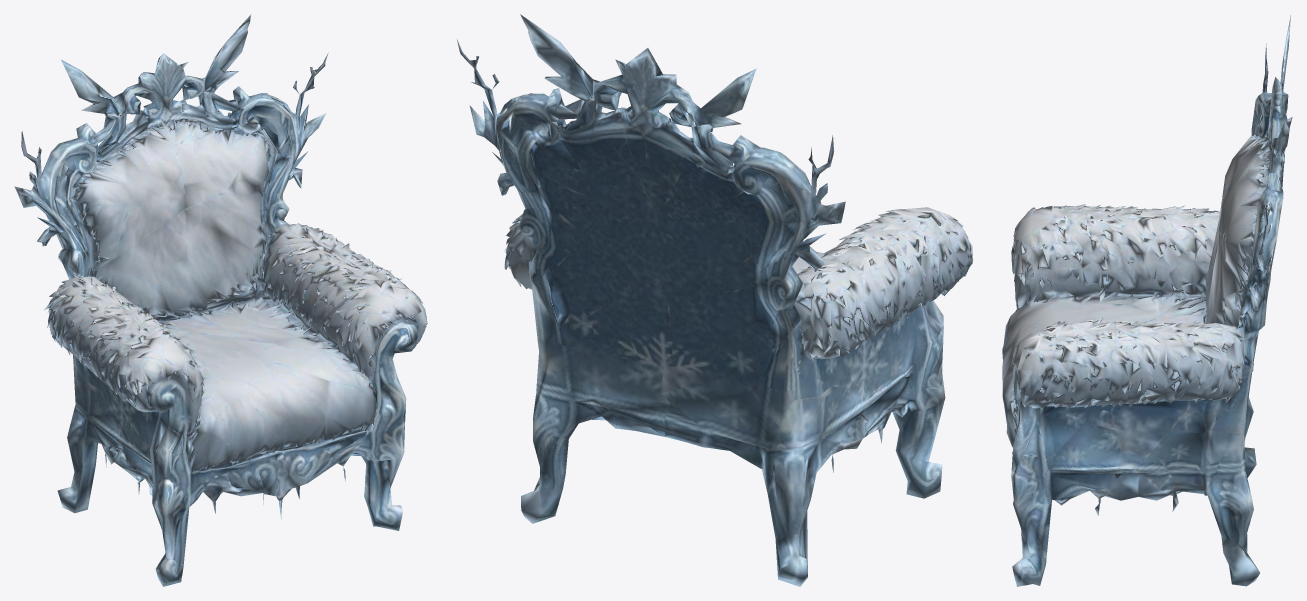
File: chair.glb
The picture shows the model from 3 angles, left to right: view 1: azimuth 30°, elevation 25°; view 2: azimuth 150°, elevation 25°; view 3: azimuth 270°, elevation 25°; orthographic projection. The views are drawn at different scales.
Size of the model in its own units: 1.46 by 1.9 by 1.08.
1 material, 1 textured.
